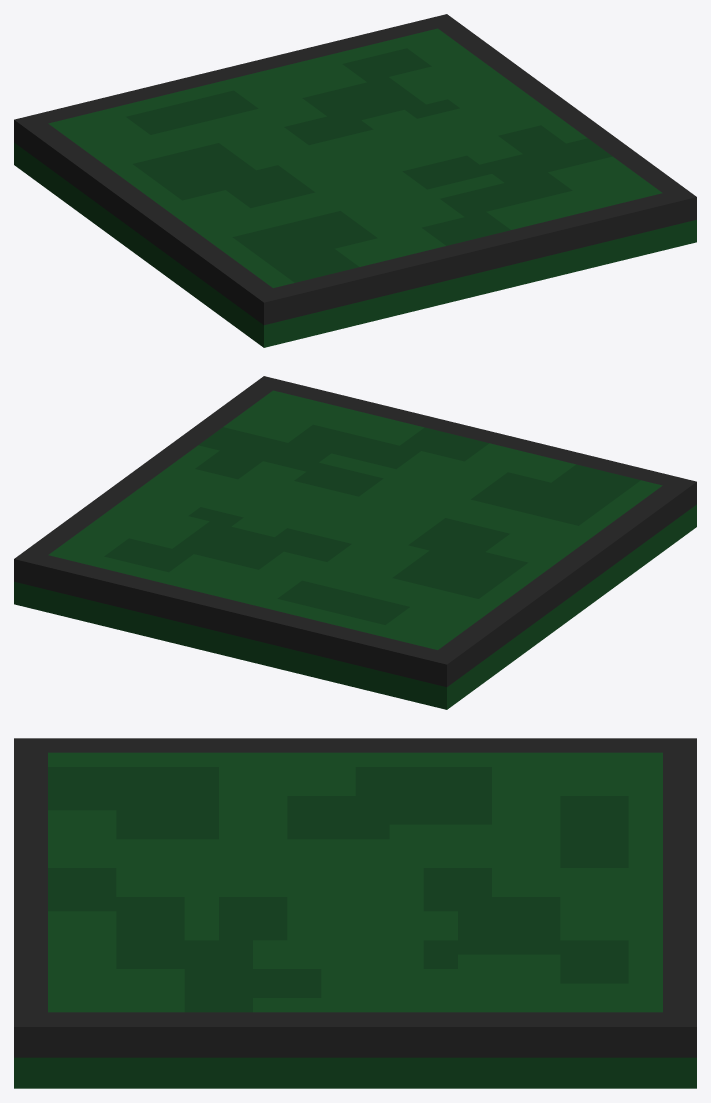
File: forest_tile_1.glb
3 renders of one model, top to bottom at view 1: azimuth 30°, elevation 25°; view 2: azimuth 150°, elevation 25°; view 3: azimuth 270°, elevation 25°, orthographic. The views are drawn at different scales.
Parts seen in each view (by area): view 1: forest_tile1; view 2: forest_tile1; view 3: forest_tile1.
Boxes of the visible parts, left/top/right/bottom form: forest_tile1: left=14, top=14, right=696, bottom=347; forest_tile1: left=14, top=376, right=696, bottom=709; forest_tile1: left=14, top=738, right=696, bottom=1088.
Size of the model in its own units: 2 by 0.2 by 2.
